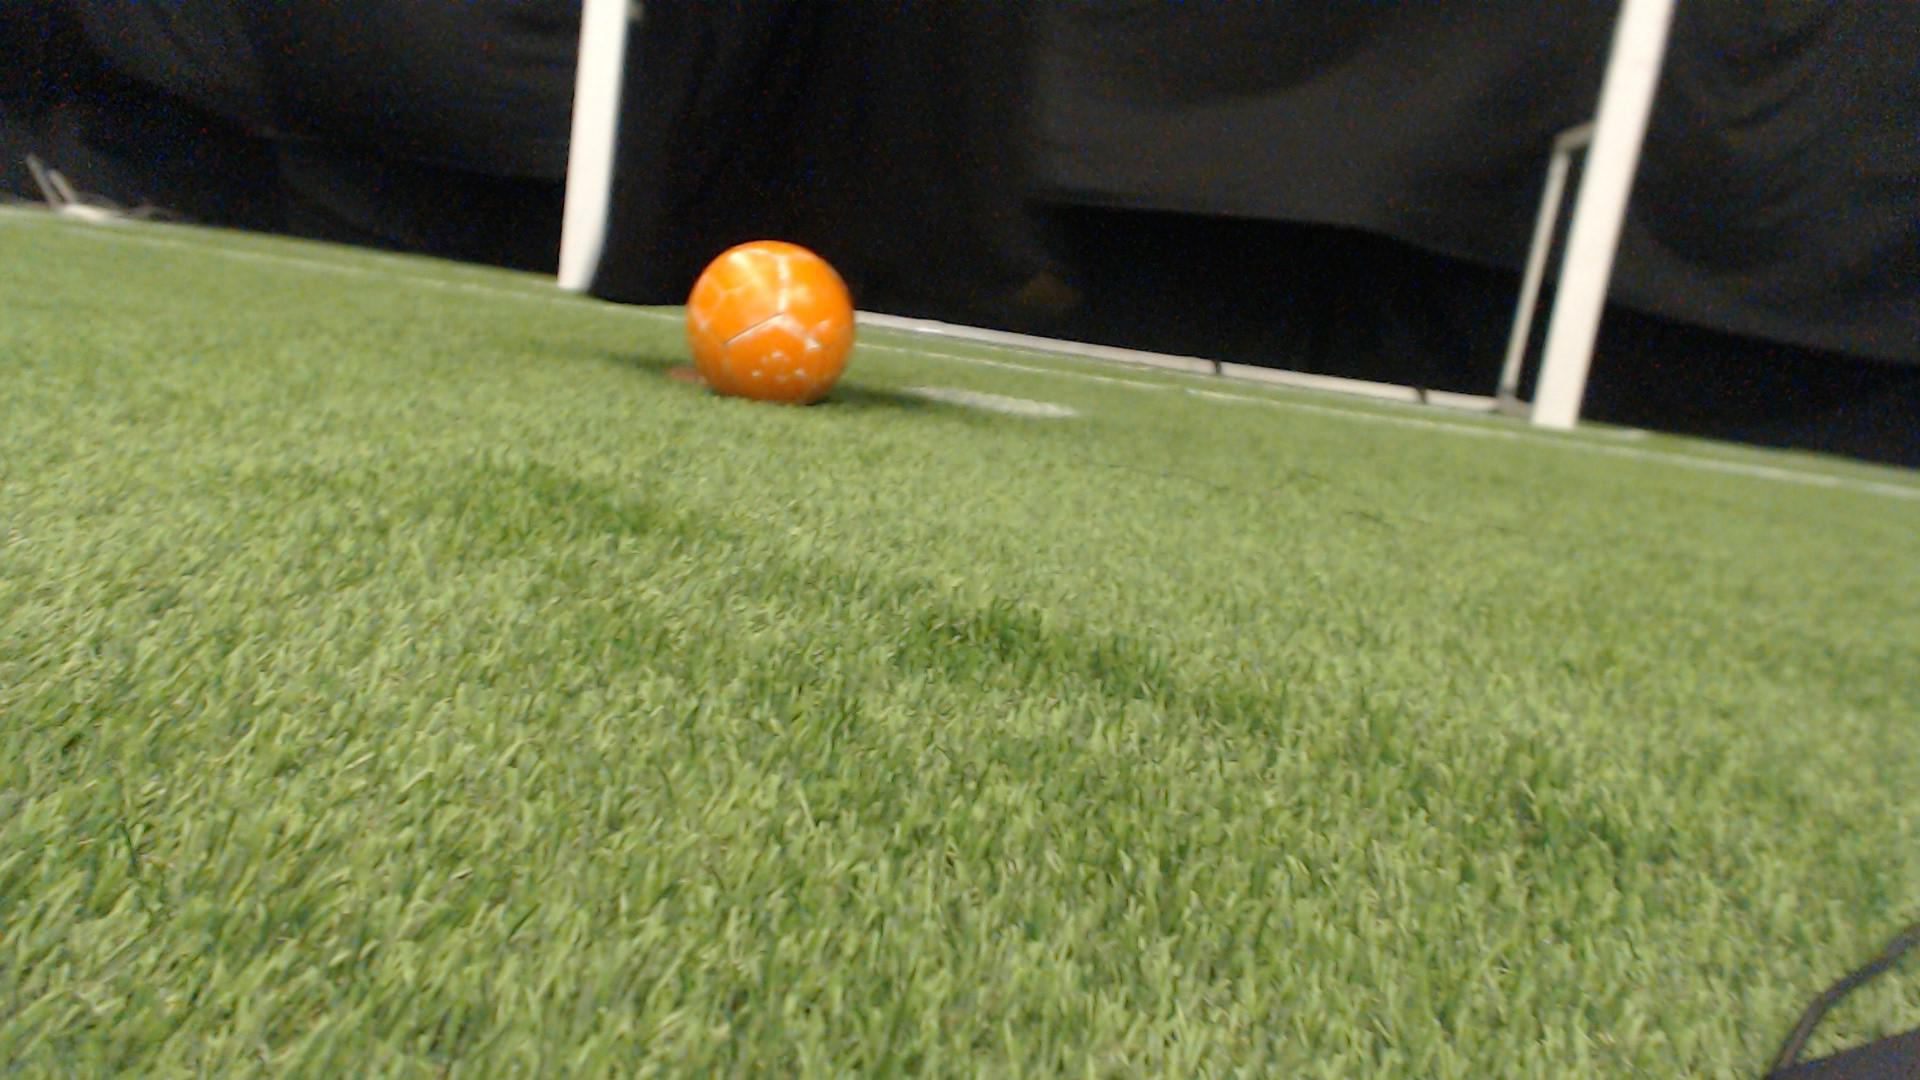bola: (682, 229, 868, 415)
